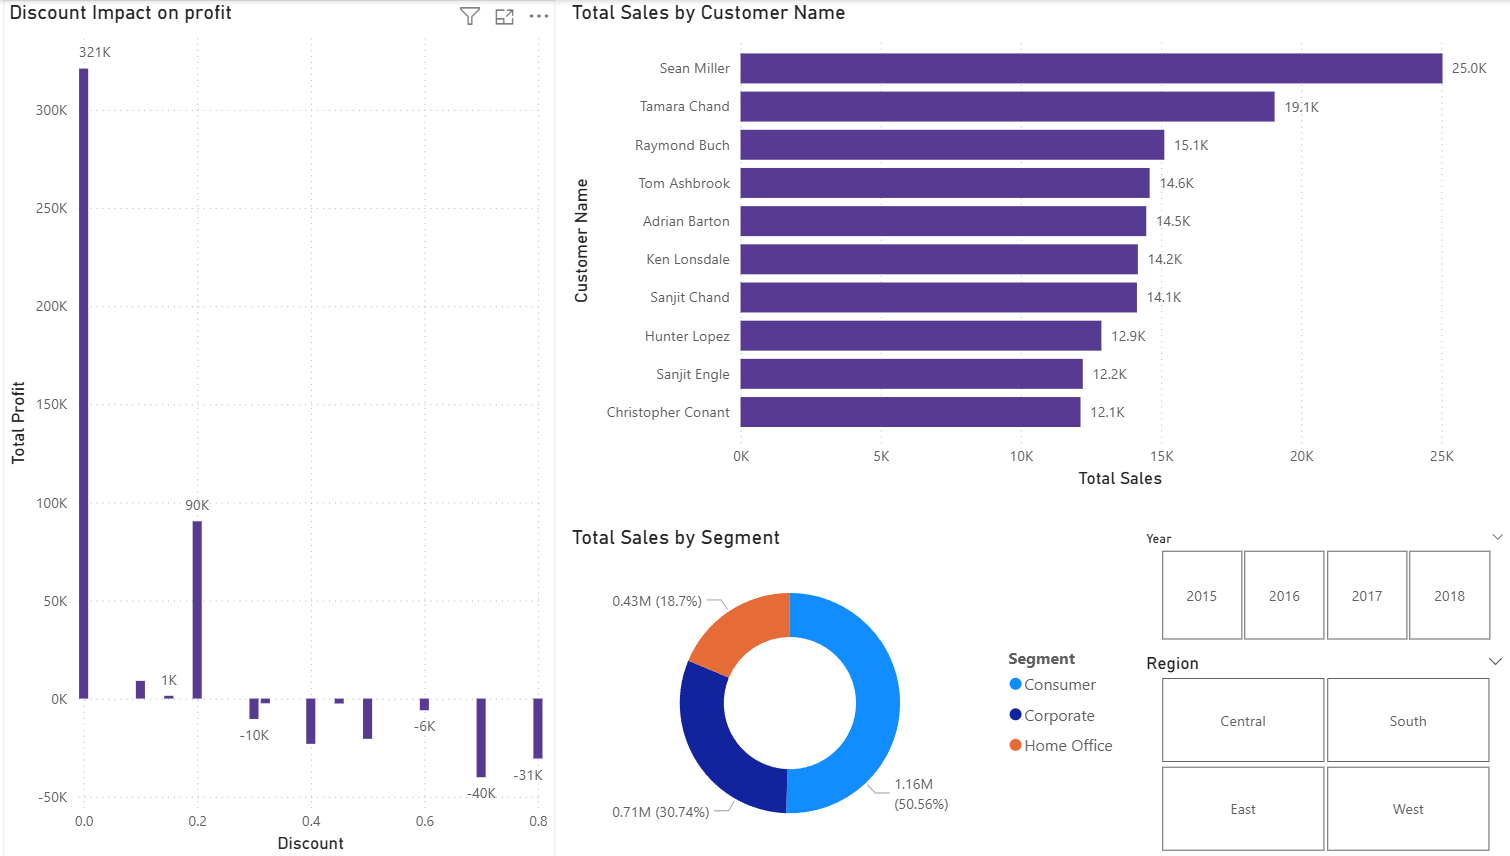

The dashboard page shown, as its layout file describes it:
{"tool":"powerbi","page":{"name":"Page 2","canvas":[1280,720],"ordinal":1},"visuals":[{"type":"clusteredColumnChart","title":"Discount Impact on profit","fields":{"Category":["cleaned_sales.Discount"],"Y":["cleaned_sales.Total Profit"]},"box":[9.6,0,462.4,720.4],"z":0},{"type":"clusteredBarChart","fields":{"Category":["cleaned_sales.Customer Name"],"Y":["cleaned_sales.Total Sales"]},"box":[481.6,0,798.6,414.4],"z":1},{"type":"donutChart","fields":{"Category":["cleaned_sales.Segment"],"Y":["cleaned_sales.Total Sales"]},"box":[481.6,440.5,473.4,279.9],"z":2},{"type":"slicer","fields":{"Values":["cleaned_sales.Order Date.Variation.Date Hierarchy.Year"]},"box":[955.1,440.5,325.2,102.9],"z":3},{"type":"slicer","fields":{"Values":["cleaned_sales.Region"]},"box":[955,543,325,177],"z":4}]}

Visuals, with their boxes in screenshot pixels (x1, y1, x2, y2), scaled from the page's 1280x720 canvas onto the 1510x856 screenshot:
"Discount Impact on profit" clusteredColumnChart: bbox=[11, 0, 557, 855]
clusteredBarChart - cleaned_sales.Customer Name x cleaned_sales.Total Sales: bbox=[568, 0, 1509, 493]
donutChart - cleaned_sales.Segment x cleaned_sales.Total Sales: bbox=[568, 524, 1127, 855]
slicer - cleaned_sales.Order Date.Variation.Date Hierarchy.Year: bbox=[1127, 524, 1509, 646]
slicer - cleaned_sales.Region: bbox=[1127, 646, 1509, 855]
